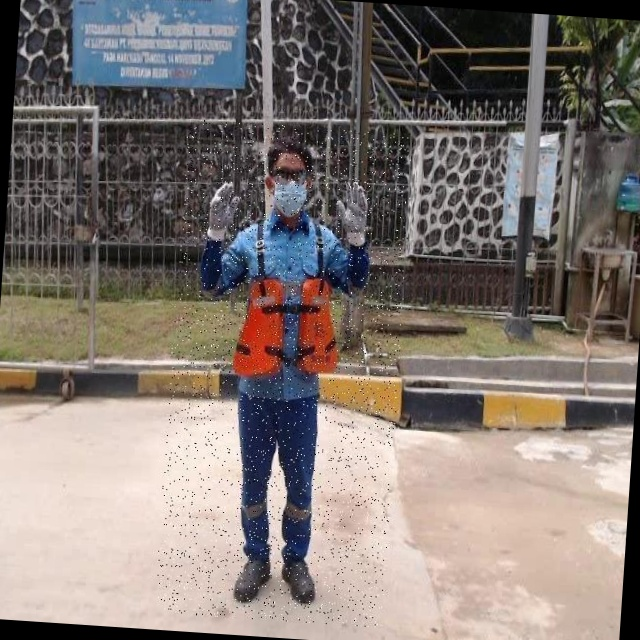boots: (296, 553, 336, 607), (252, 555, 289, 609)
gloves: (326, 178, 369, 245), (202, 188, 235, 250)
vest: (235, 283, 340, 379)
